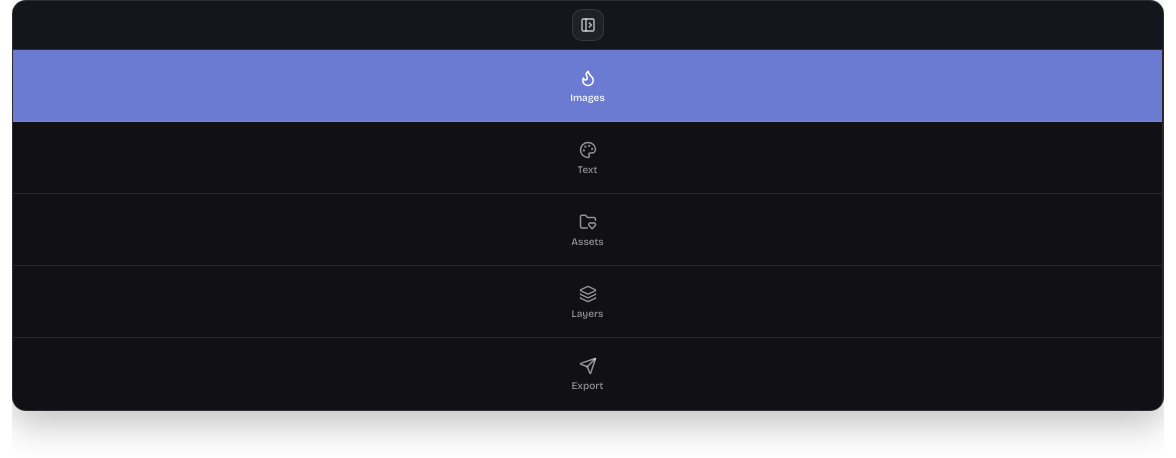
Scenario: CreatorWorkspace keyboard navigation › starts compact and expands the selected tool accessibly
Expected: the text "Discovery panel" is not shown
Click the tab "Images".
click(588, 86)  # box [13, 50, 1162, 122]
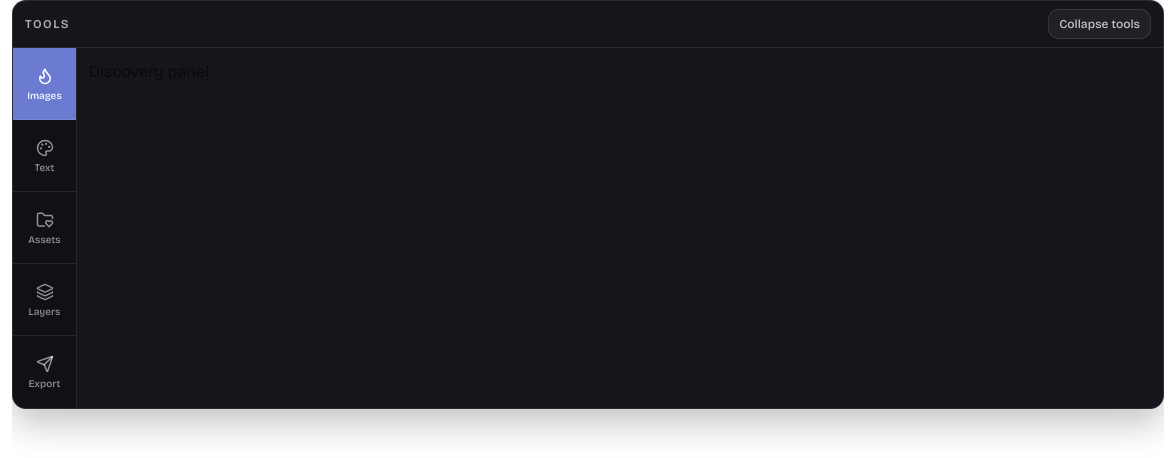
Now the button "Collapse tools" is expanded, box [1048, 9, 1151, 39]
